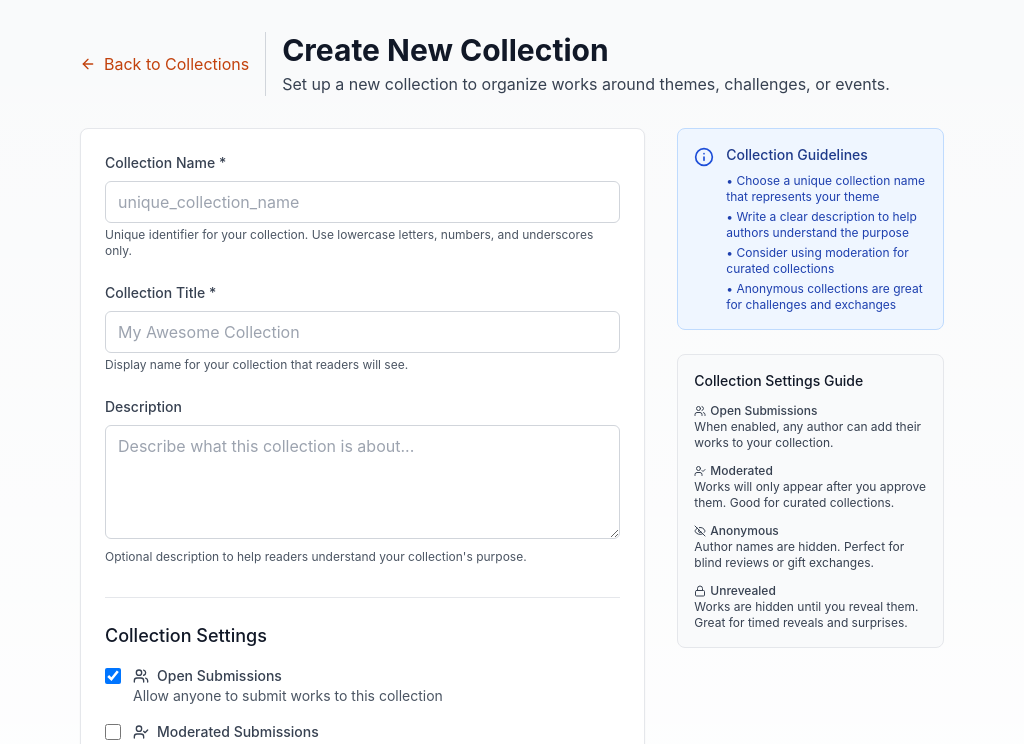
Scenario: Collections Components › Collection Creation Page › should handle form submission errors
Step 1. Type "test-collection" into the field labelled "Collection Name *" → (363, 202), box [105,181,620,223]
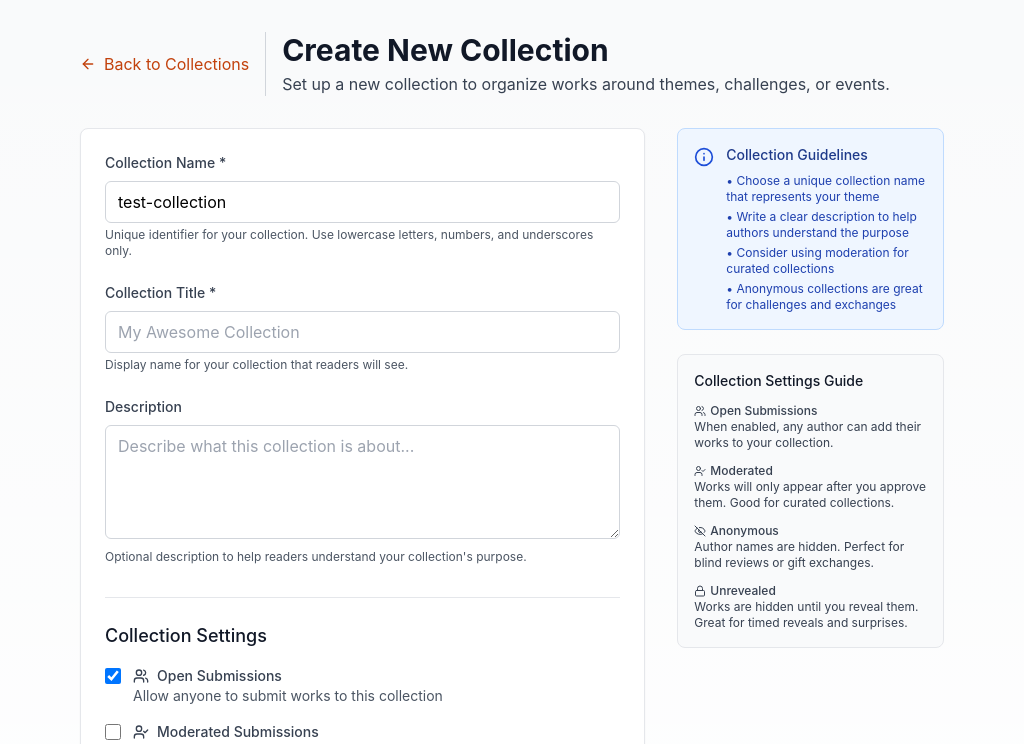
Step 2. Type "Test Collection" into the field labelled "Collection Title *" → (363, 332), box [105,311,620,353]
(page scrolled)
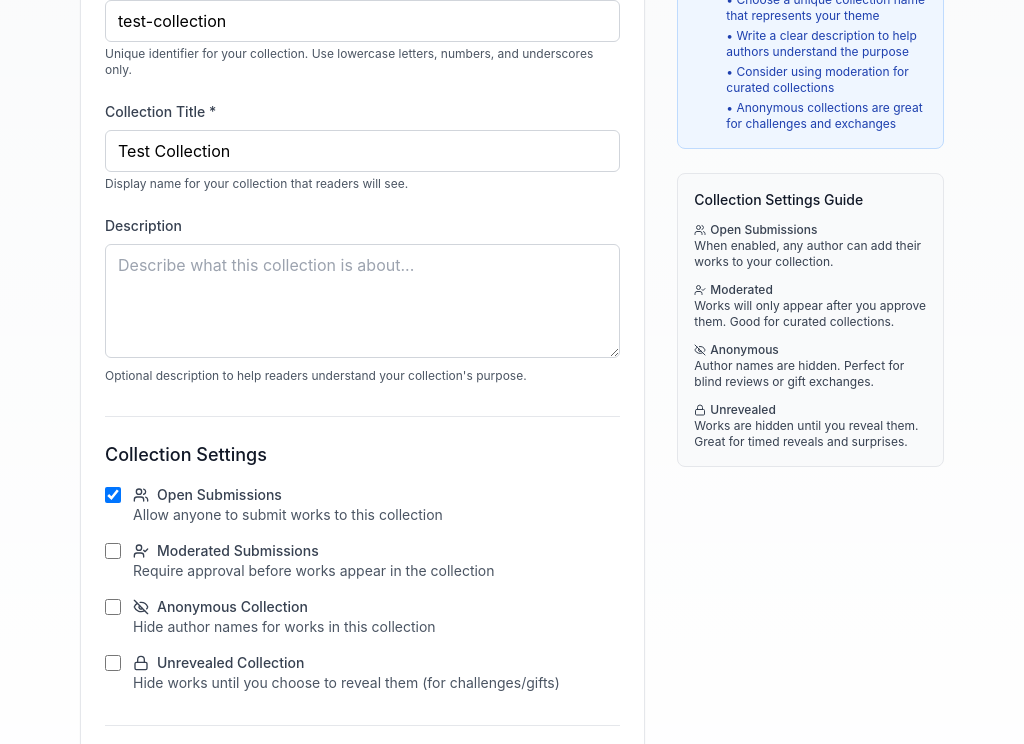
# Submit form
Step 3. Submit the form
(page scrolled)
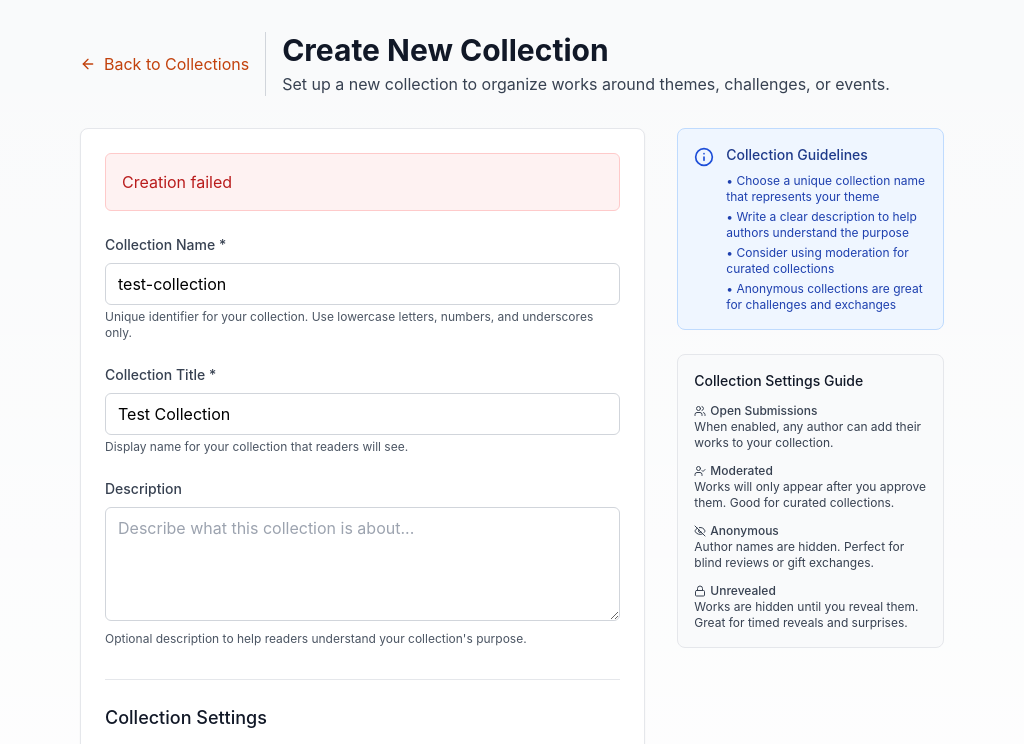
Result: the text "Creation failed" is shown at [105,153,620,211]
